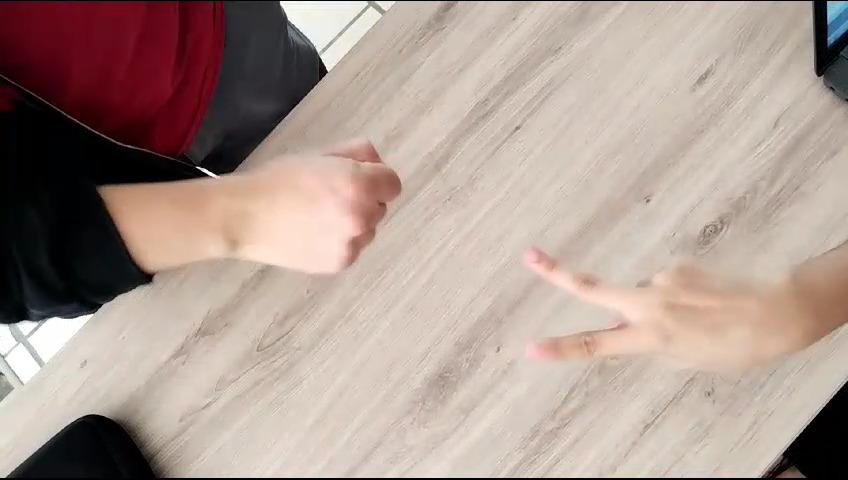Scissor: (492, 205, 798, 408)
Stone: (222, 130, 410, 280)
